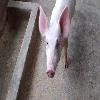heo: (37, 1, 75, 80)
